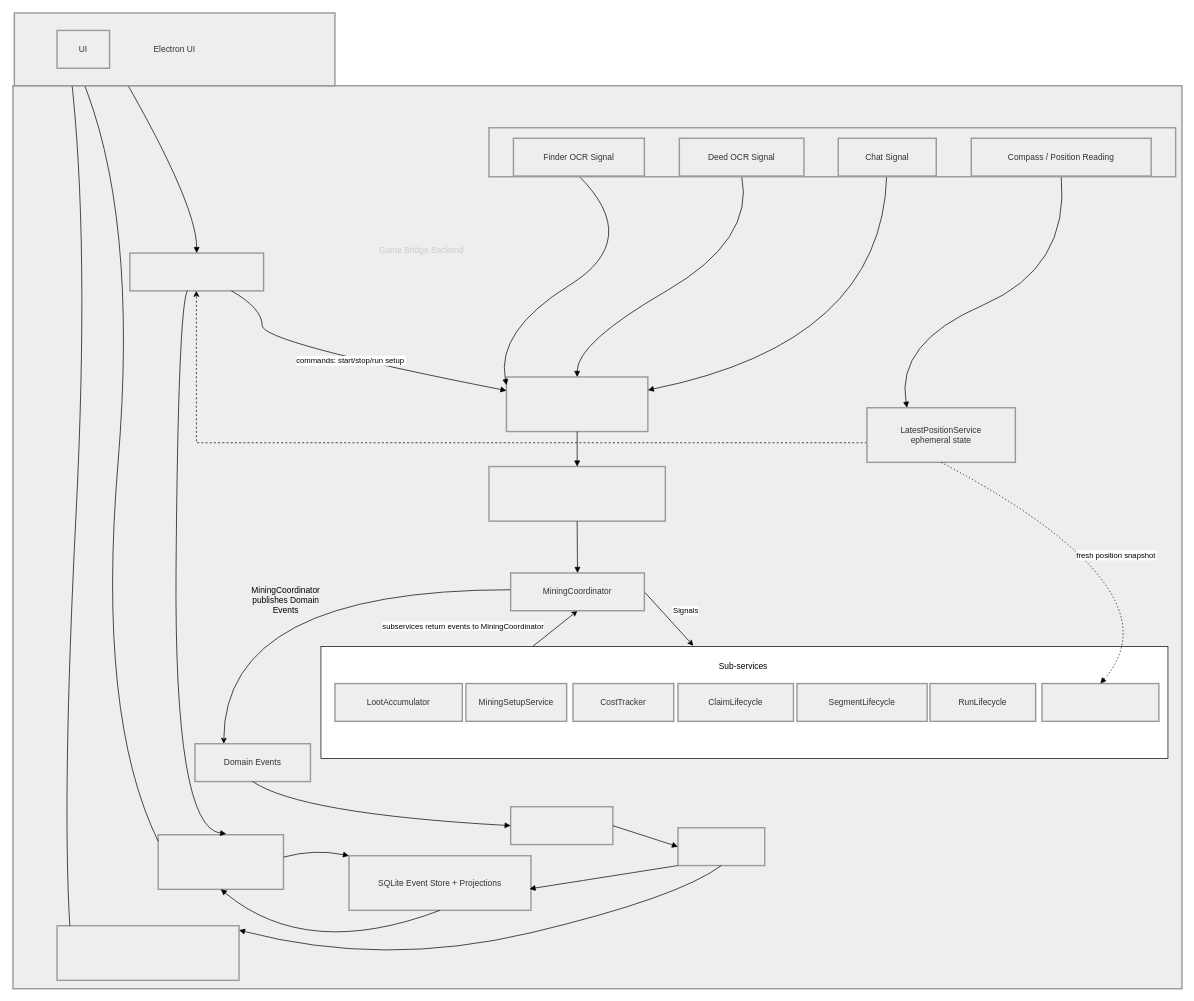
The diagram is 1194 pixels wide and 1001 high, and some of its shapes have lost their labels. Each missing label, with the box of its shape:
DbWriter: (677, 827, 765, 866)
DropCorrelator: (1041, 682, 1159, 722)
EventQueue: (510, 806, 613, 845)
HTTP API / WS API: (129, 252, 264, 291)
InputCoordinator single-threaded dispatcher: (488, 465, 666, 522)
Local input adapters: (786, 99, 867, 127)
PersistedEventBus / UI updates: (56, 925, 239, 981)
Read API read-only SQLite: (157, 834, 284, 890)
RuntimeInputQueue signals + commands: (505, 376, 648, 432)
